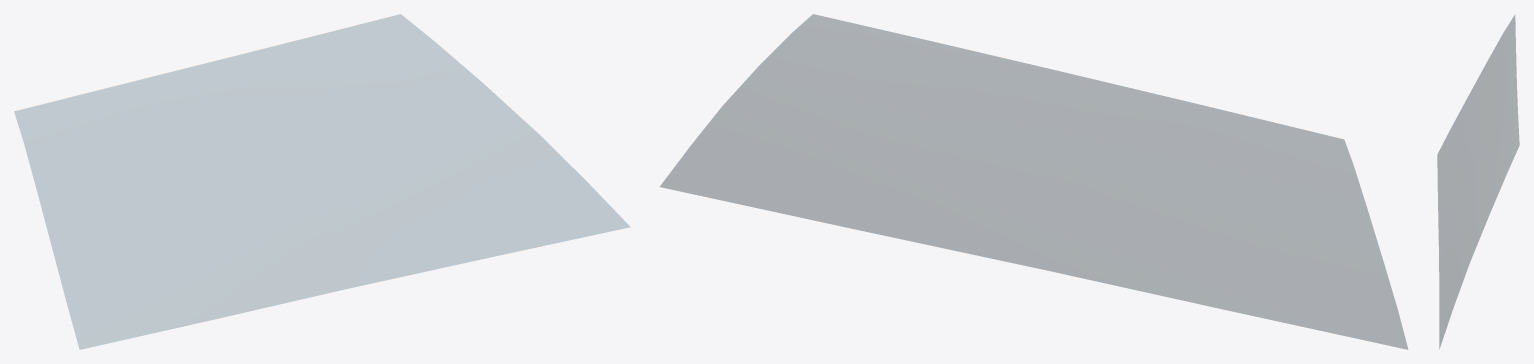
3 renders of one model, left to right at view 1: azimuth 30°, elevation 25°; view 2: azimuth 150°, elevation 25°; view 3: azimuth 270°, elevation 25°, orthographic. The views are drawn at different scales.
Visible parts, largest first — view 1: SM_MiniCooper_Door_FR_Glass_Int1; view 2: SM_MiniCooper_Door_FR_Glass_Int1; view 3: SM_MiniCooper_Door_FR_Glass_Int1.
Boxes of the visible parts, x1,y1,x2,y2 form: SM_MiniCooper_Door_FR_Glass_Int1: (14, 14, 629, 349); SM_MiniCooper_Door_FR_Glass_Int1: (660, 14, 1407, 349); SM_MiniCooper_Door_FR_Glass_Int1: (1437, 15, 1519, 348).
Size of the model in its own units: 1.22 by 0.4421 by 0.2247.
